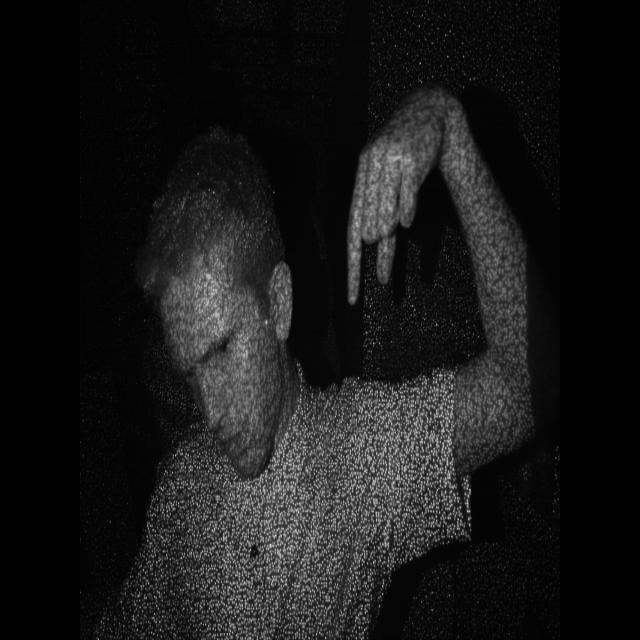Q: (342, 130, 421, 306)
